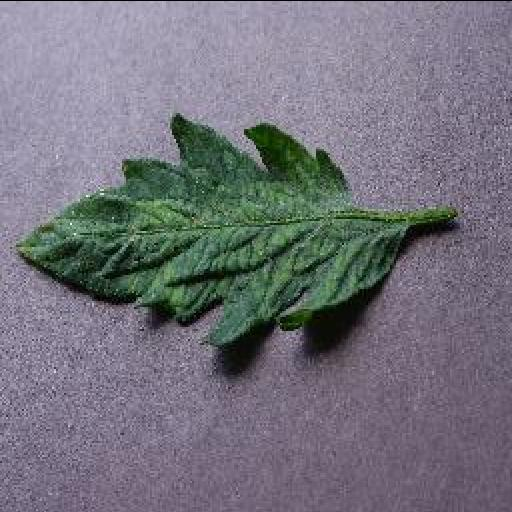disease_tomato: (11, 110, 405, 348)
